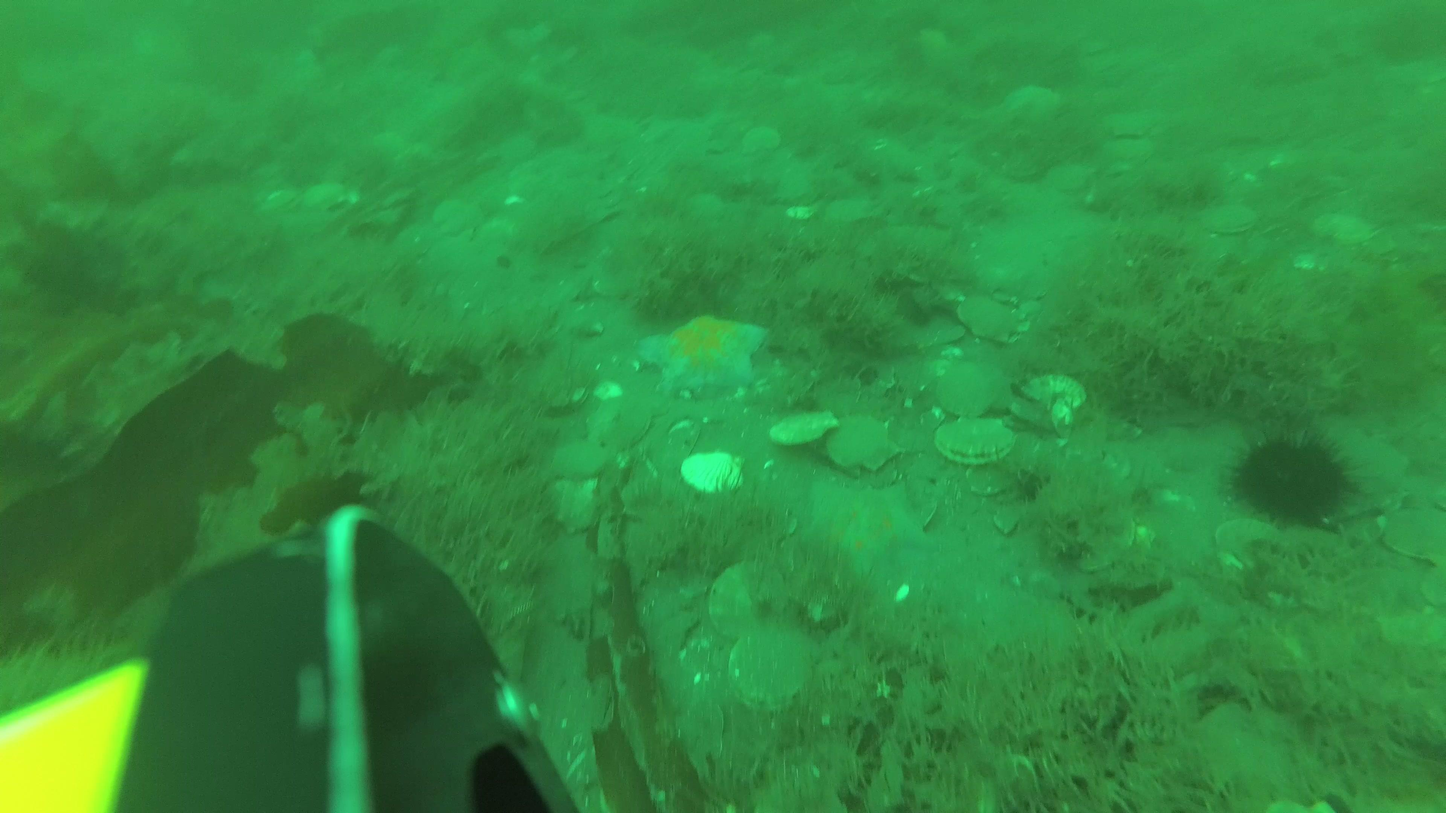holothurian: (799, 472, 942, 590), (636, 311, 774, 405), (1002, 74, 1063, 120)
scallop: (704, 548, 797, 649), (727, 629, 822, 713), (927, 417, 1022, 469), (1341, 432, 1418, 495), (824, 414, 901, 475), (1015, 370, 1087, 432), (1380, 501, 1446, 568), (932, 361, 1011, 415), (588, 392, 652, 455), (953, 290, 1023, 343), (1212, 515, 1276, 572), (680, 451, 748, 494), (769, 408, 838, 448), (430, 194, 487, 241), (1307, 210, 1378, 245), (1039, 157, 1100, 197), (817, 193, 881, 229), (552, 437, 608, 478), (300, 175, 354, 217), (1101, 104, 1162, 139), (737, 120, 786, 161), (1201, 202, 1257, 236)
starfish: (1226, 423, 1350, 534)
